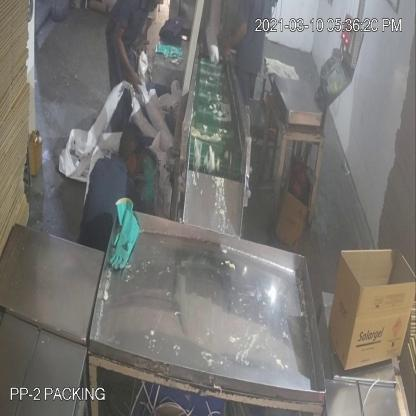no_glove: (112, 18, 142, 91), (218, 17, 251, 68)
